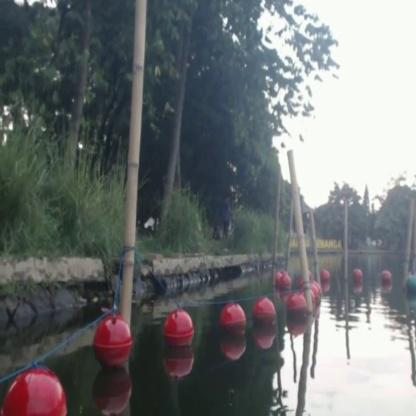green_buoy: (406, 270, 415, 300)
red_buoy: (2, 365, 69, 415), (96, 316, 128, 366), (164, 306, 194, 350), (222, 302, 245, 340), (254, 298, 274, 334), (286, 294, 306, 328), (379, 267, 393, 288), (320, 268, 332, 284), (309, 283, 317, 307), (281, 276, 293, 290), (354, 268, 362, 286)
